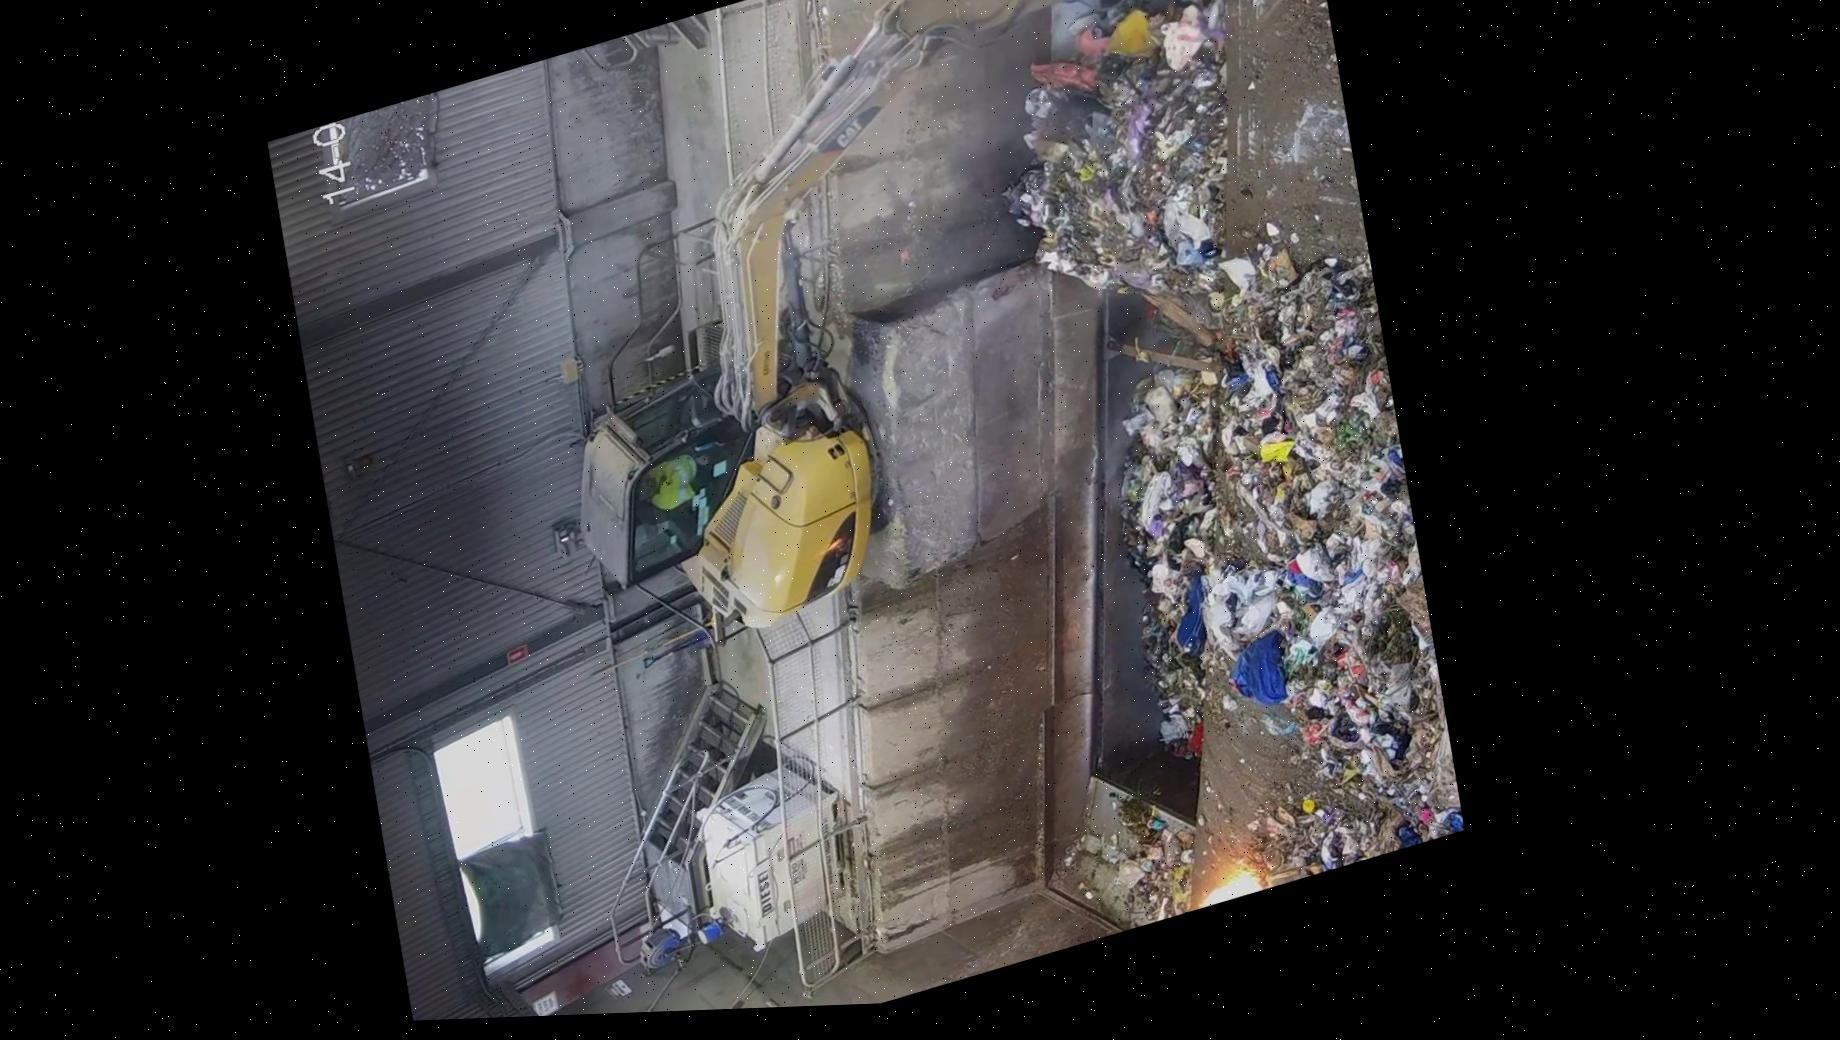fire: (1101, 751, 1313, 922)
